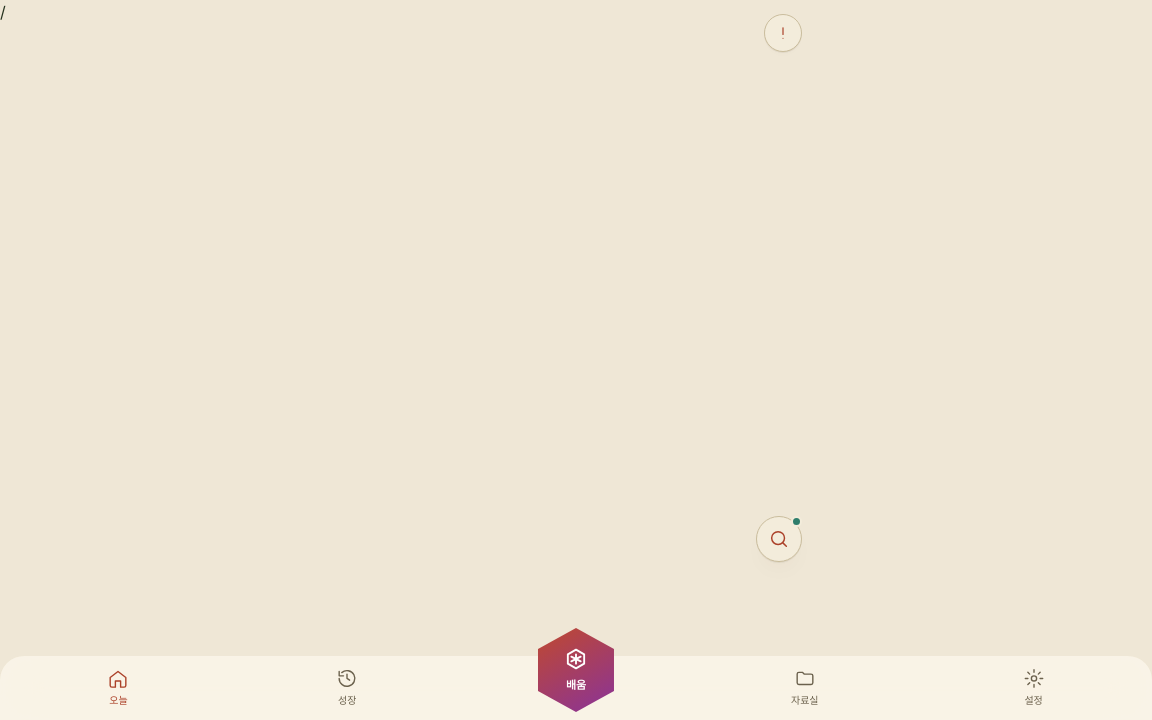
Test: Shell — LearnMenu DOM position (fix-pass: restored pre-D0 sibling relationship) › mounts .km-learnmenu as a sibling of .km-shell, not nested inside it
This screenshot has width=1152, height=720.
Click the button with aria-label "Learn · 배움". click: [576, 670]
box: top-left (538, 628), bottom-right (614, 712)
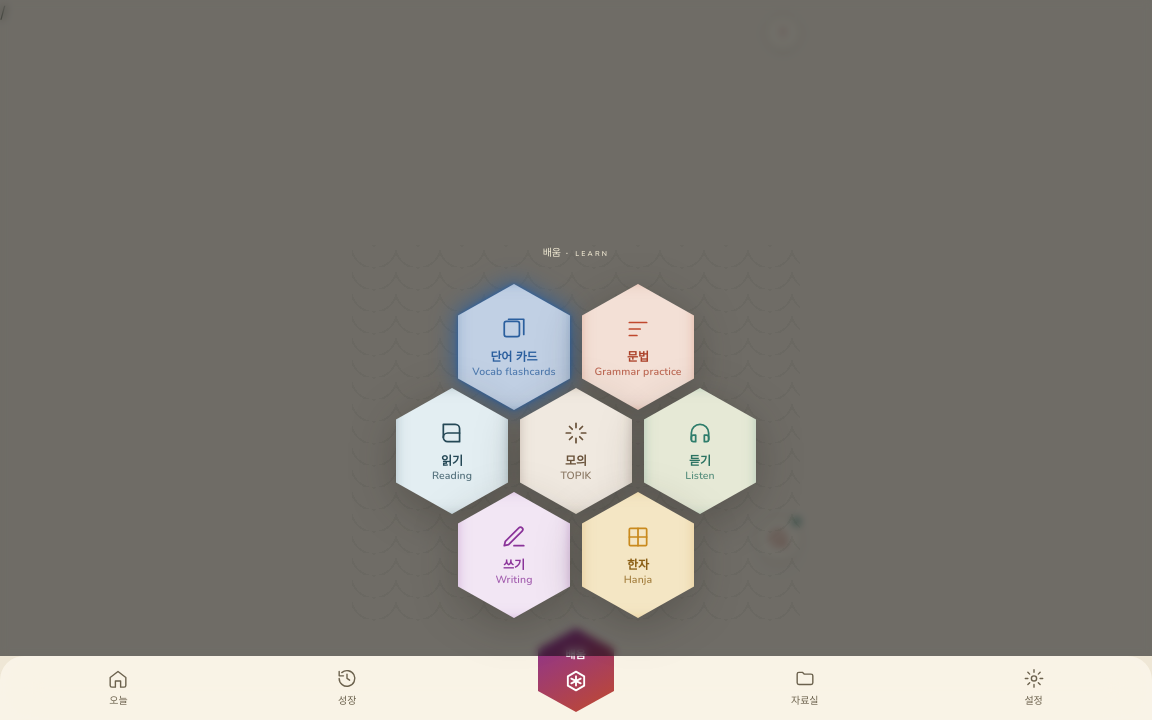
Expected: the element with class "km-learnmenu" is shown
